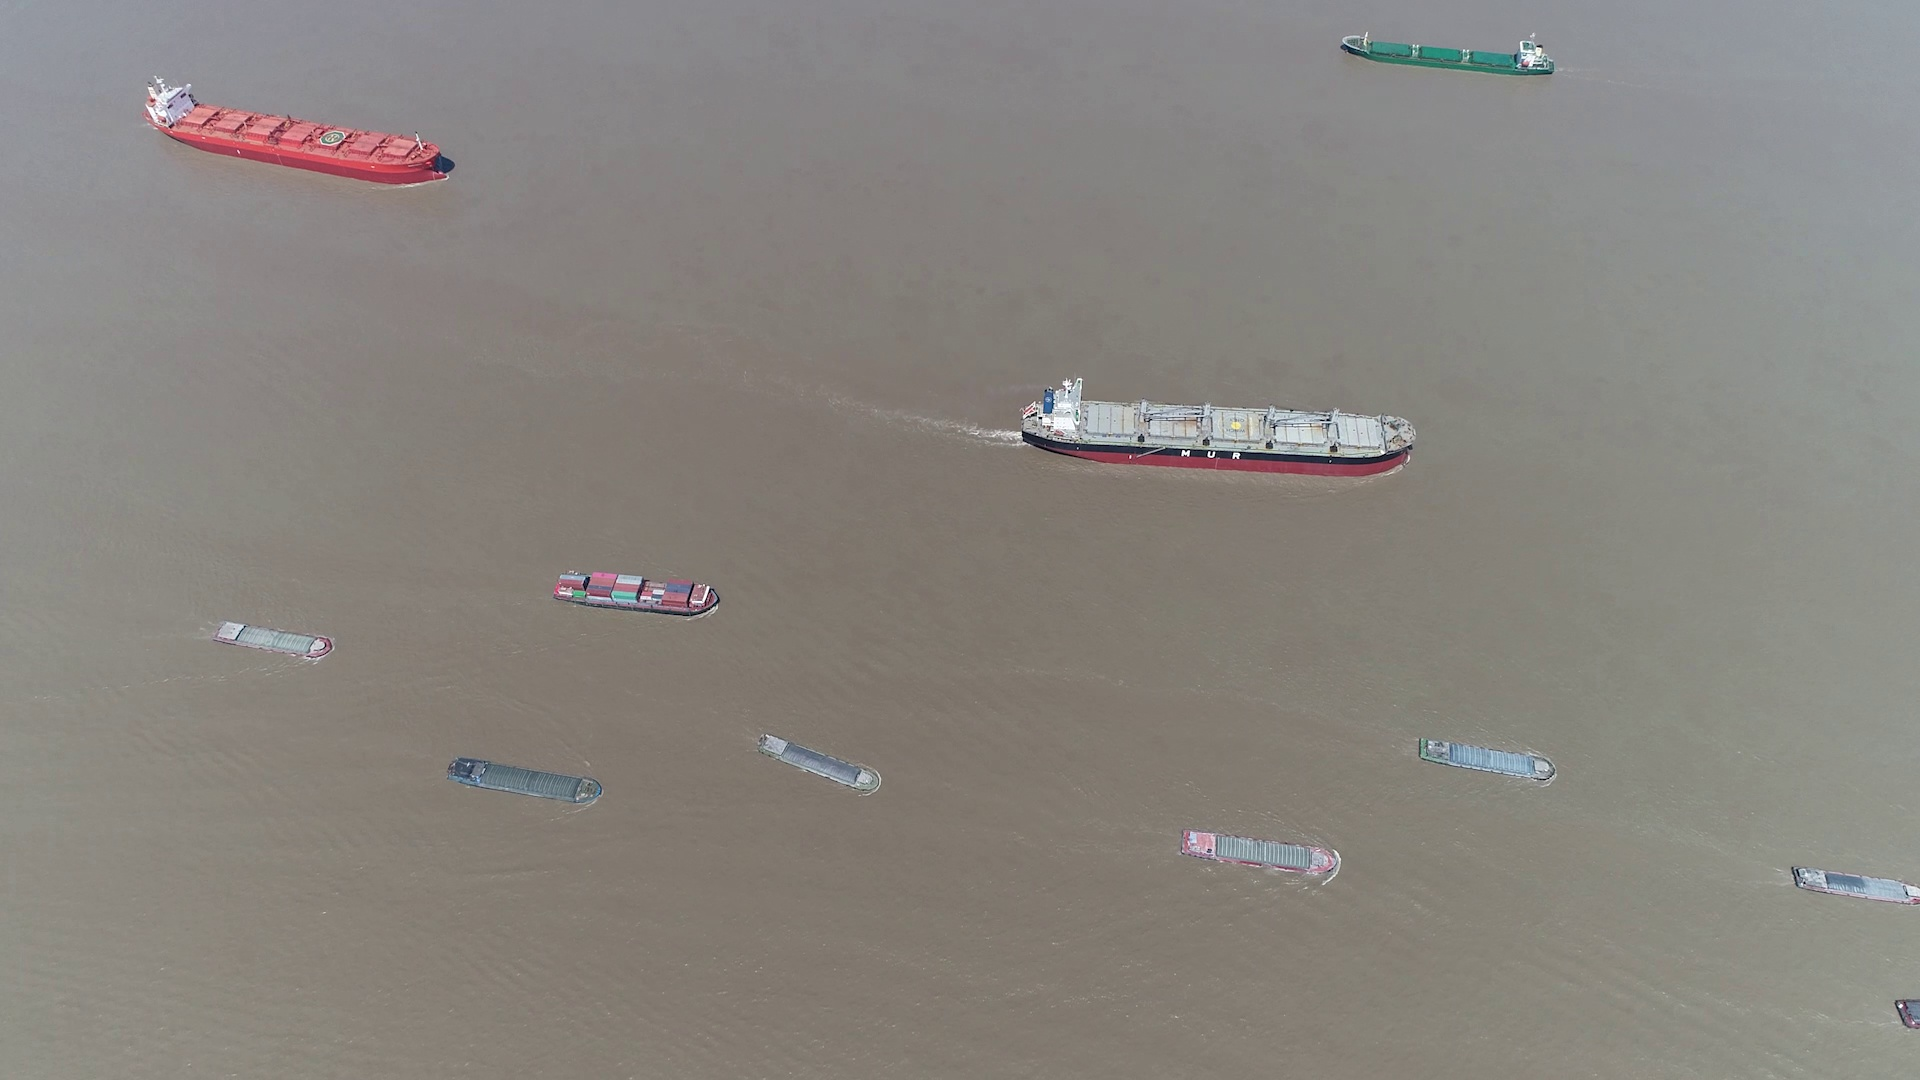ship: (1021, 382, 1419, 477), (146, 74, 450, 181), (1338, 32, 1553, 76), (1180, 829, 1341, 877), (555, 568, 717, 615), (448, 757, 605, 804), (762, 735, 886, 793), (1419, 737, 1556, 781), (1789, 865, 1917, 905), (212, 620, 334, 659), (1896, 1000, 1920, 1034)
